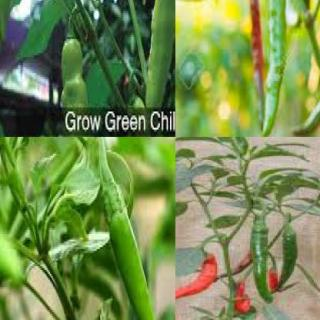green_chilli: (102, 208, 174, 320), (260, 0, 294, 136), (144, 0, 174, 122), (59, 36, 93, 136), (0, 195, 32, 287), (245, 216, 276, 305), (273, 220, 307, 290)
